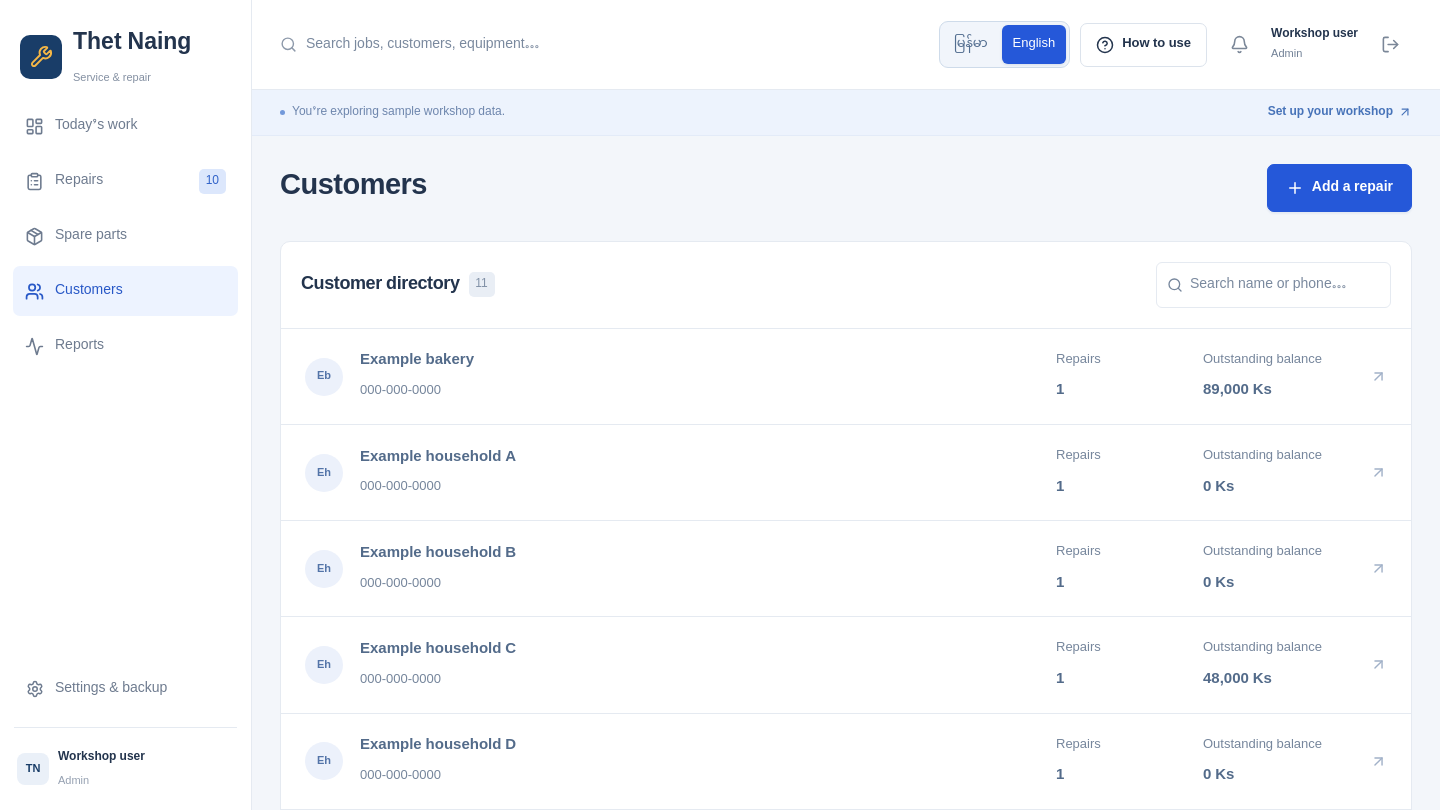
Test: role-aware screens and repair handoffs › keeps Admin navigation and nested route actions connected
Expected: the link "Reports" is shown, [25, 330, 104, 361]
Click the button "Add a repair".
click(1339, 188)  # box [1267, 164, 1412, 212]
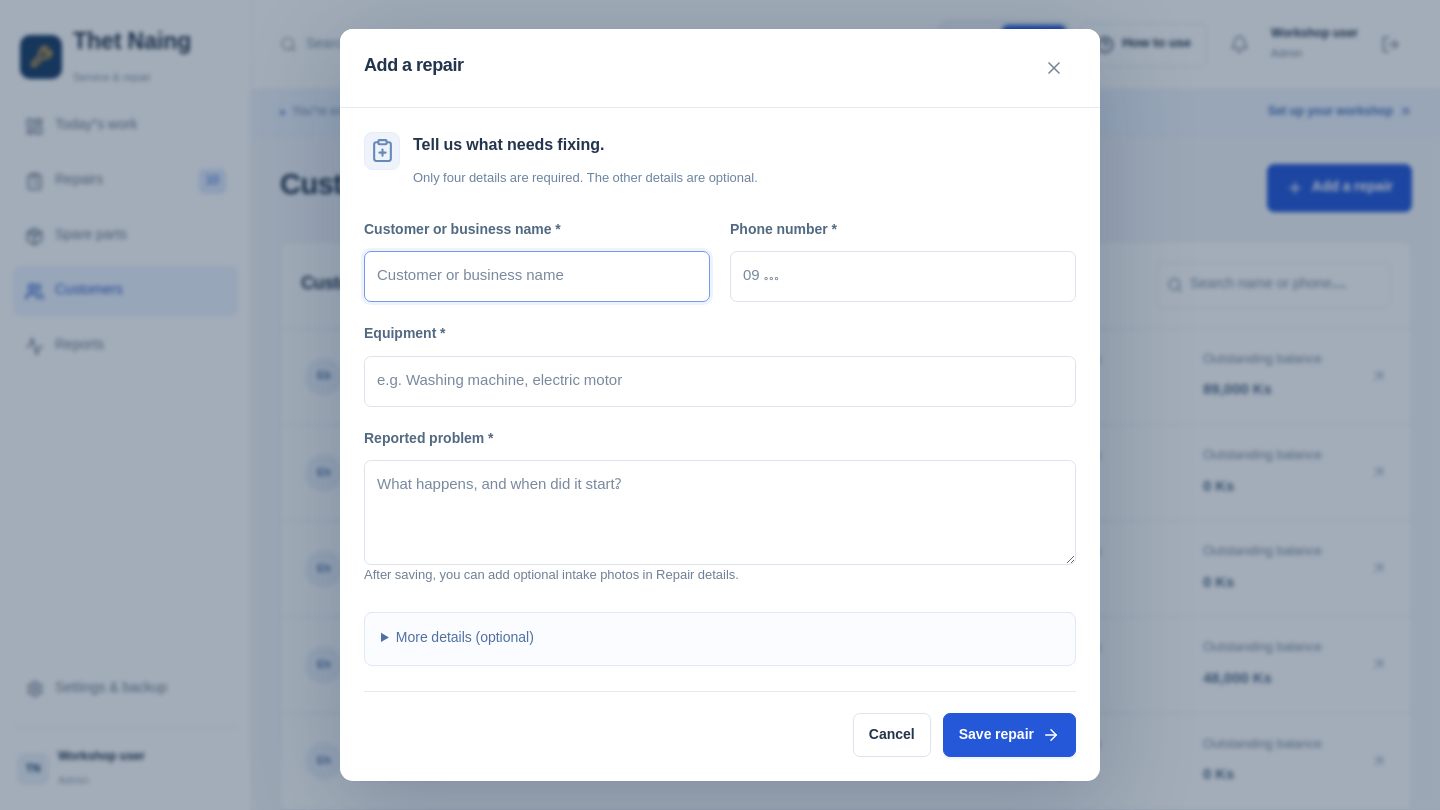
Now the dialog is shown, box [340, 29, 1100, 781]
